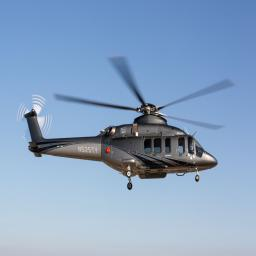helicopter: (18, 55, 239, 191)
